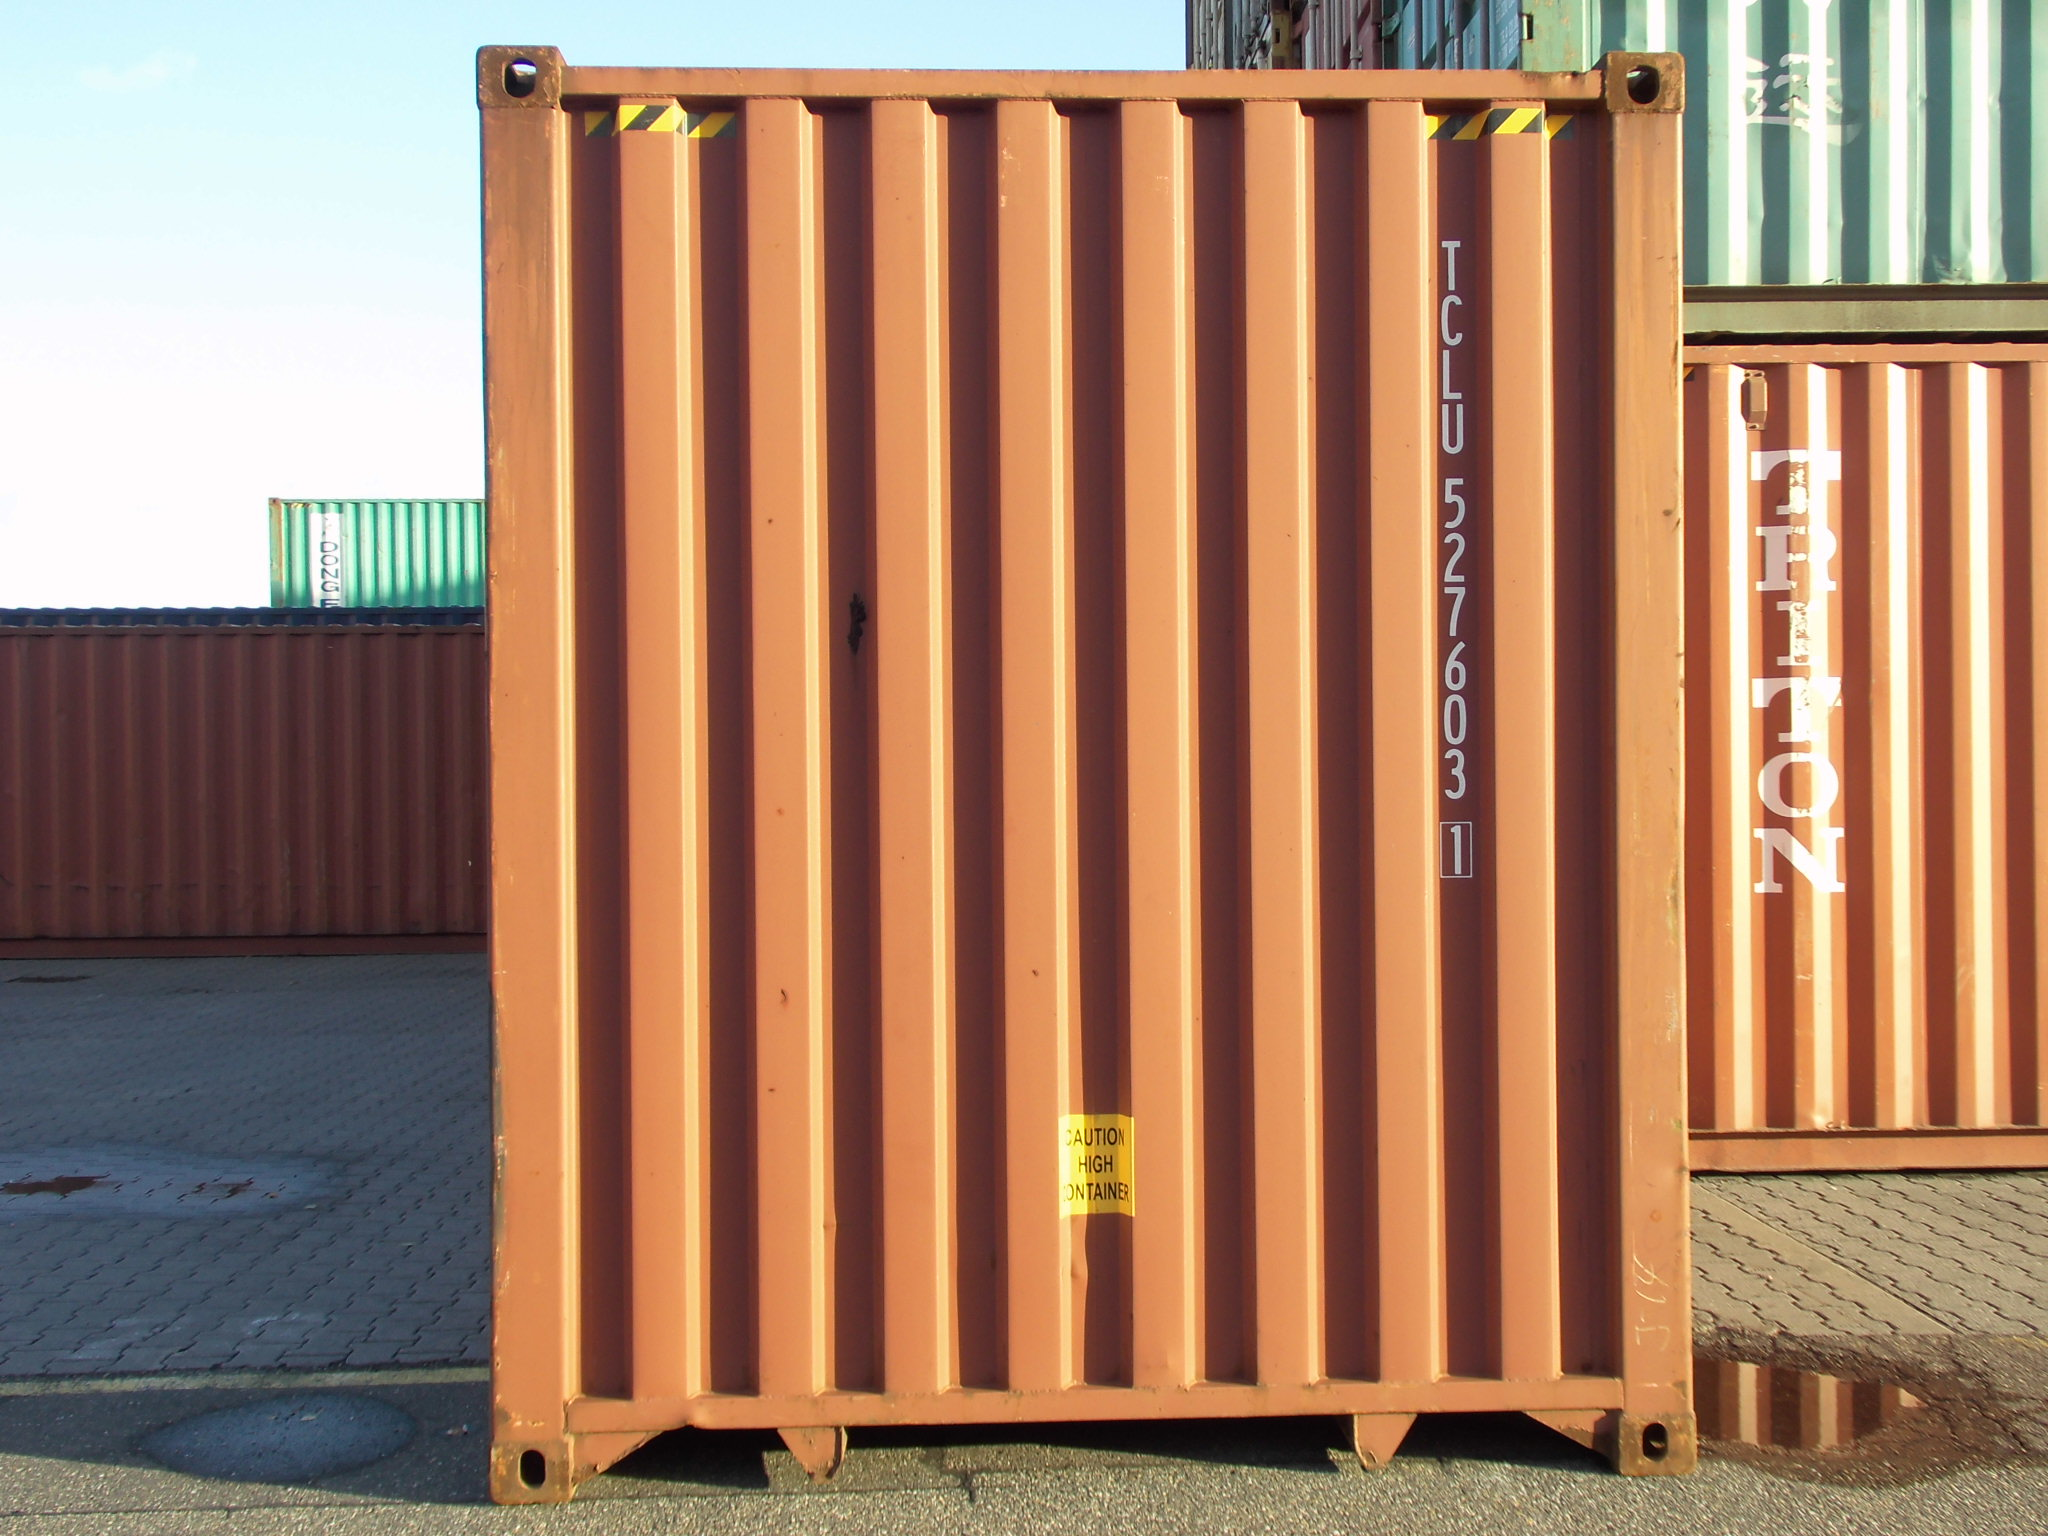container_no_door: (464, 31, 1721, 1509)
